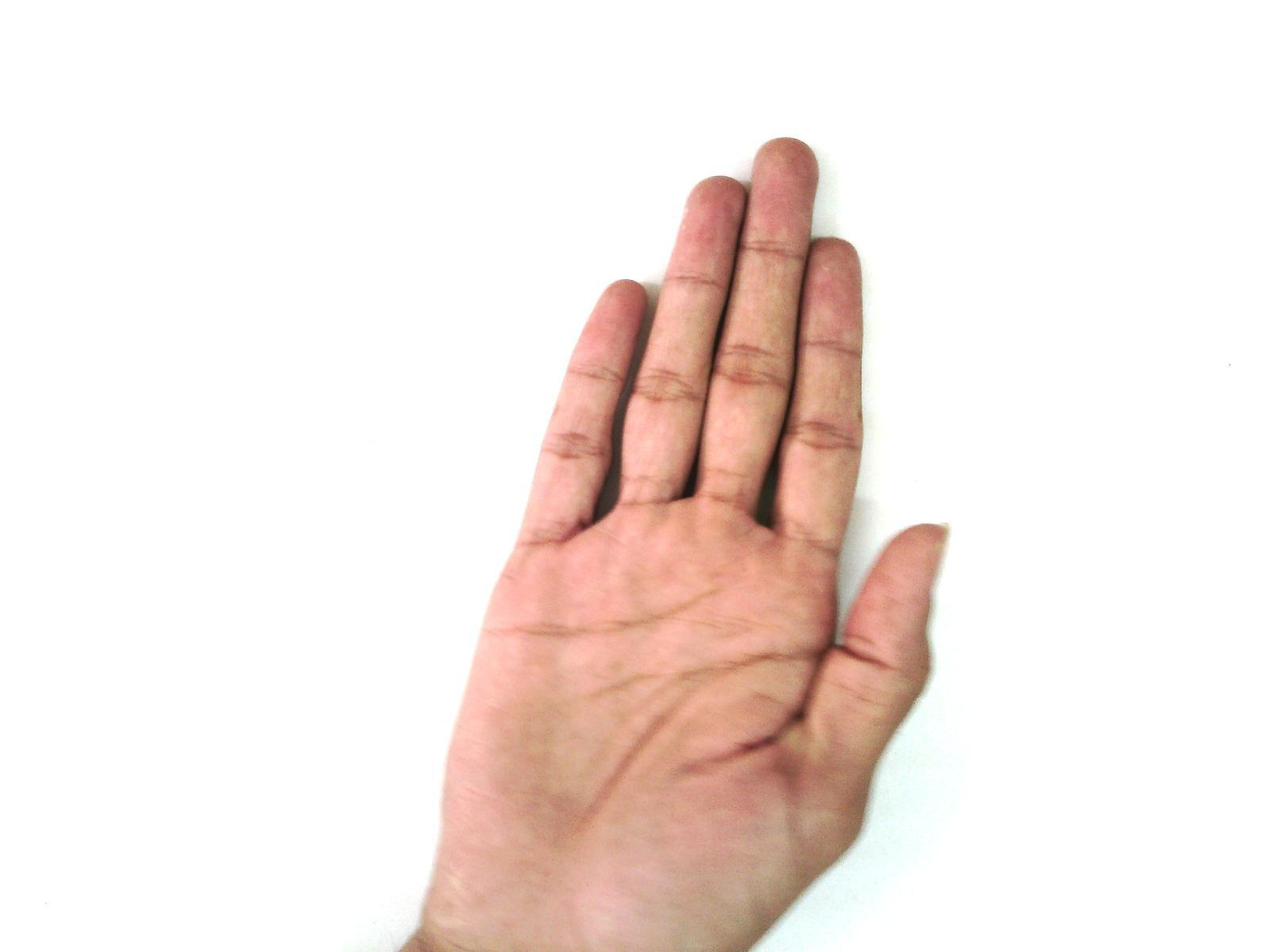open_palm: (404, 136, 953, 951)
